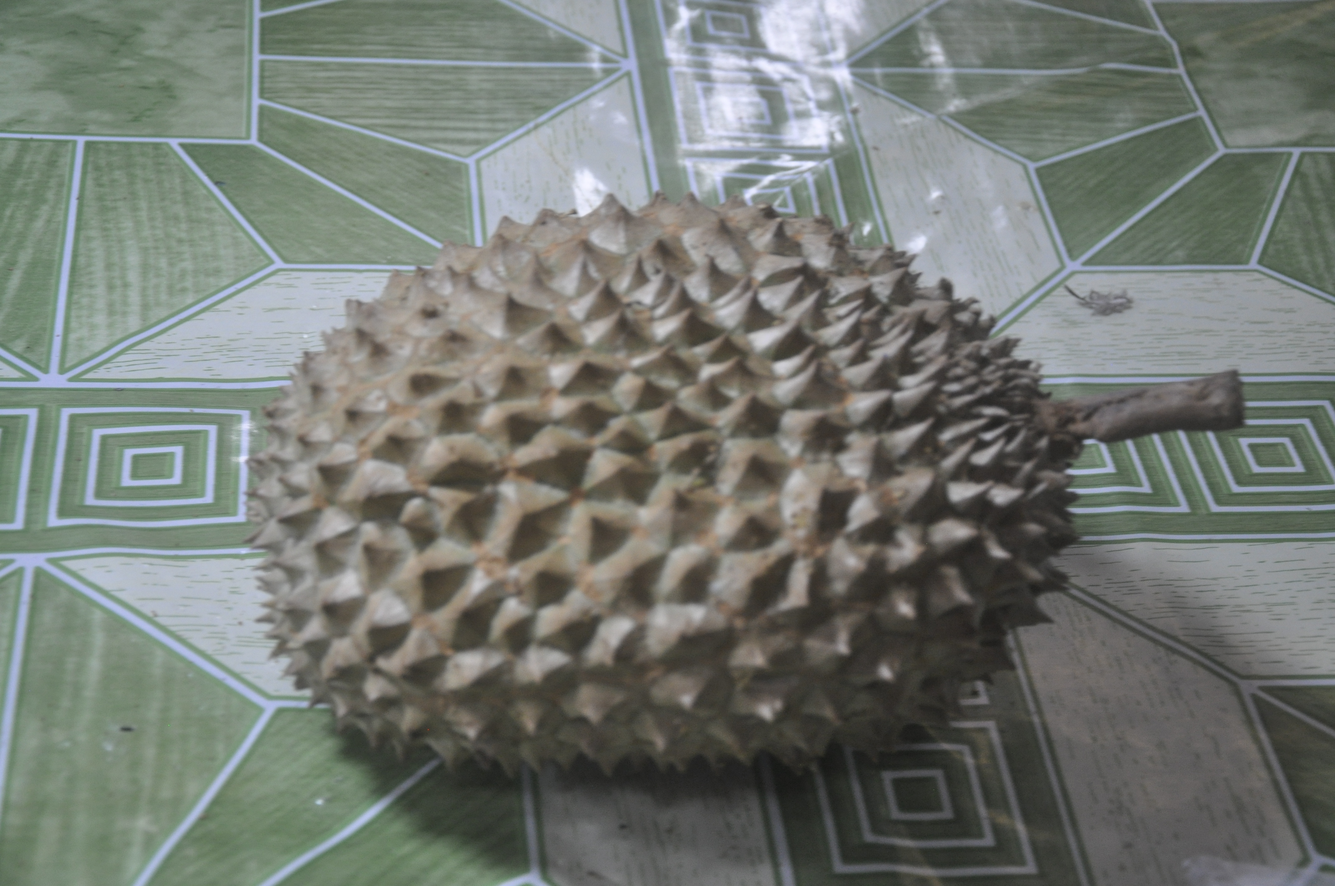mature: (252, 195, 1080, 772)
